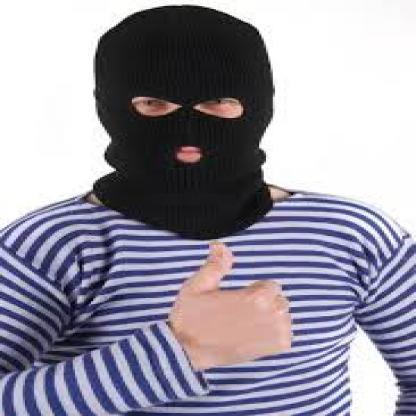criminal: (0, 4, 416, 416)
